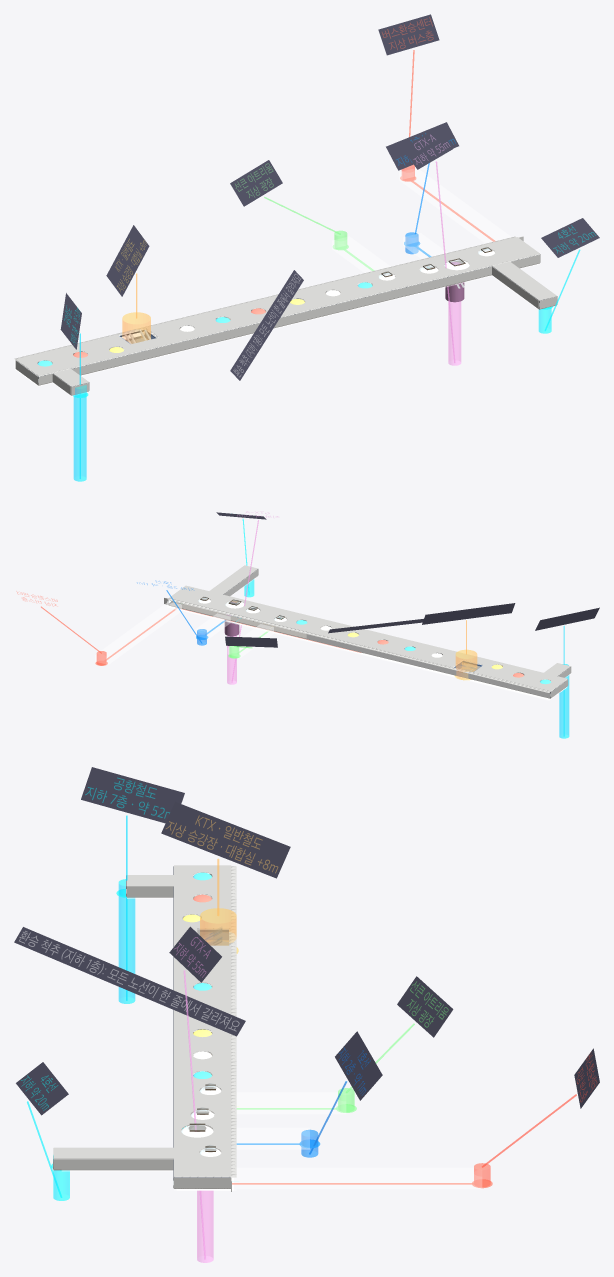
File: proposal_ug.glb
3 views of the same model, one above another, from view 1: azimuth 30°, elevation 25°; view 2: azimuth 150°, elevation 25°; view 3: azimuth 270°, elevation 25° (orthographic). The views are drawn at different scales.
Parts seen in each view (by area): view 1: UG_CeilingBacking, UG_WallBack, UG_CeilingFolds, UGP_Spur_BUS, UGP_Plate_Spine, UGP_Plate_BUS, UGP_Plate_KTX, UGP_Core_AREX, UGP_Plate_ATR, UGP_Plate_L4, UGP_Plate_GTX, UGP_Spur_ATR (+7 smaller); view 2: UG_CeilingBacking, UGP_Spine_Volume, UG_CeilingFolds, UG_WallBack, UGP_Spur_BUS, UG_Floor, UGP_Plate_KTX, UGP_Spine_Floor, UGP_Plate_AREX, UGP_Core_AREX, UGP_Core_KTX, UGP_Plate_ATR (+4 smaller); view 3: UG_CeilingBacking, UGP_Spur_BUS, UGP_Plate_Spine, UGP_Plate_KTX, UG_CeilingFolds, UGP_Plate_AREX, UG_WallBack, UGP_Spur_ATR, UGP_Plate_ATR, UGP_Plate_L1, UGP_Core_AREX, UGP_Spur_L1 (+9 smaller).
Boxes of the visible parts, <box> form: UG_CeilingBacking: <box>16,237,539,375</box>; UG_WallBack: <box>15,236,557,395</box>; UG_CeilingFolds: <box>14,236,556,386</box>; UGP_Spur_BUS: <box>399,168,510,243</box>; UGP_Plate_Spine: <box>230,270,303,380</box>; UGP_Plate_BUS: <box>378,14,439,55</box>; UGP_Plate_KTX: <box>106,225,149,296</box>; UGP_Core_AREX: <box>73,385,86,481</box>; UGP_Plate_ATR: <box>230,160,282,206</box>; UGP_Plate_L4: <box>541,218,599,257</box>; UGP_Plate_GTX: <box>403,127,453,169</box>; UGP_Spur_ATR: <box>332,236,390,272</box>; UG_CeilingBacking: <box>169,585,567,691</box>; UGP_Spine_Volume: <box>167,599,566,700</box>; UG_CeilingFolds: <box>167,565,570,692</box>; UG_WallBack: <box>164,565,571,698</box>; UGP_Spur_BUS: <box>95,601,181,664</box>; UG_Floor: <box>169,576,570,698</box>; UGP_Plate_KTX: <box>422,603,515,624</box>; UGP_Spine_Floor: <box>168,606,566,700</box>; UGP_Plate_AREX: <box>535,607,599,630</box>; UGP_Core_AREX: <box>559,664,569,738</box>; UGP_Core_KTX: <box>455,649,477,679</box>; UGP_Plate_ATR: <box>225,636,277,647</box>; UG_CeilingBacking: <box>174,865,231,1176</box>; UGP_Spur_BUS: <box>237,1168,481,1188</box>; UGP_Plate_Spine: <box>14,927,245,1036</box>; UGP_Plate_KTX: <box>161,801,290,878</box>; UG_CeilingFolds: <box>53,866,236,1177</box>; UGP_Plate_AREX: <box>81,767,184,823</box>; UG_WallBack: <box>53,866,231,1191</box>; UGP_Spur_ATR: <box>237,1092,345,1113</box>; UGP_Plate_ATR: <box>397,976,453,1037</box>; UGP_Plate_L1: <box>335,1031,382,1100</box>; UGP_Core_AREX: <box>118,879,135,1003</box>; UGP_Spur_L1: <box>237,1128,309,1149</box>.
Size of the model in its own units: 321 by 125 by 224.
